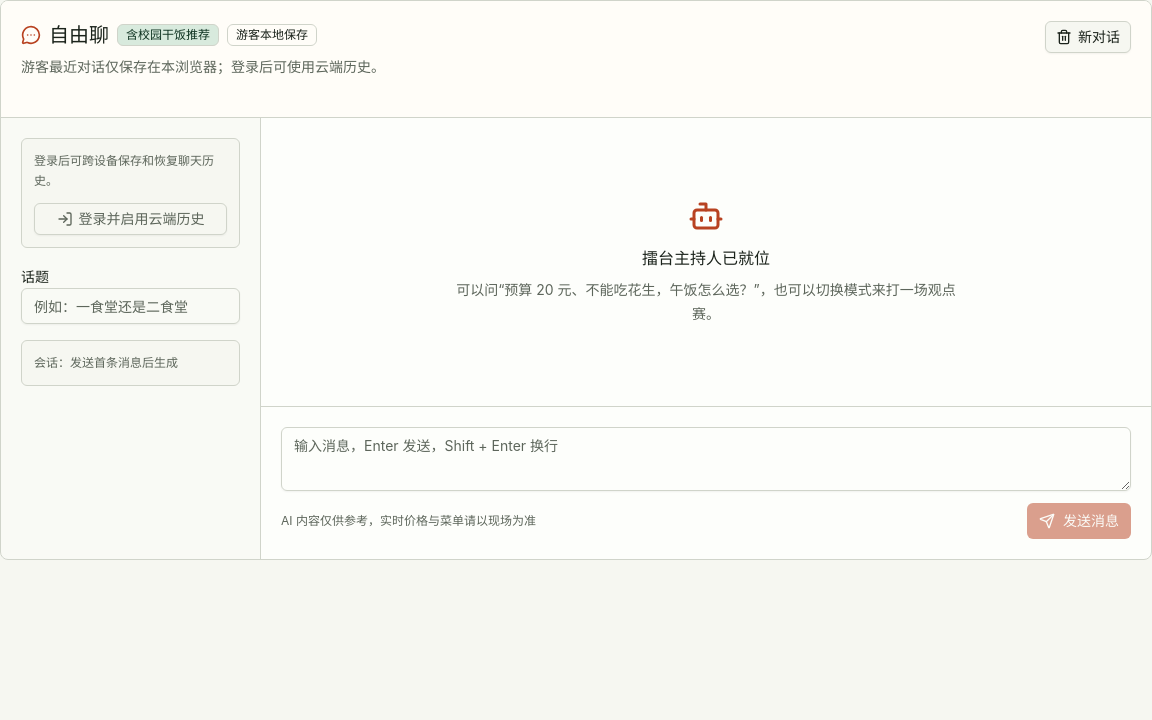
chat panel › renders deltas and saves only after the full response completes
The image size is (1152, 720).
In the text box named "聊天消息": coordinates (706, 459) [281,427,1131,491], type "推荐一道菜"
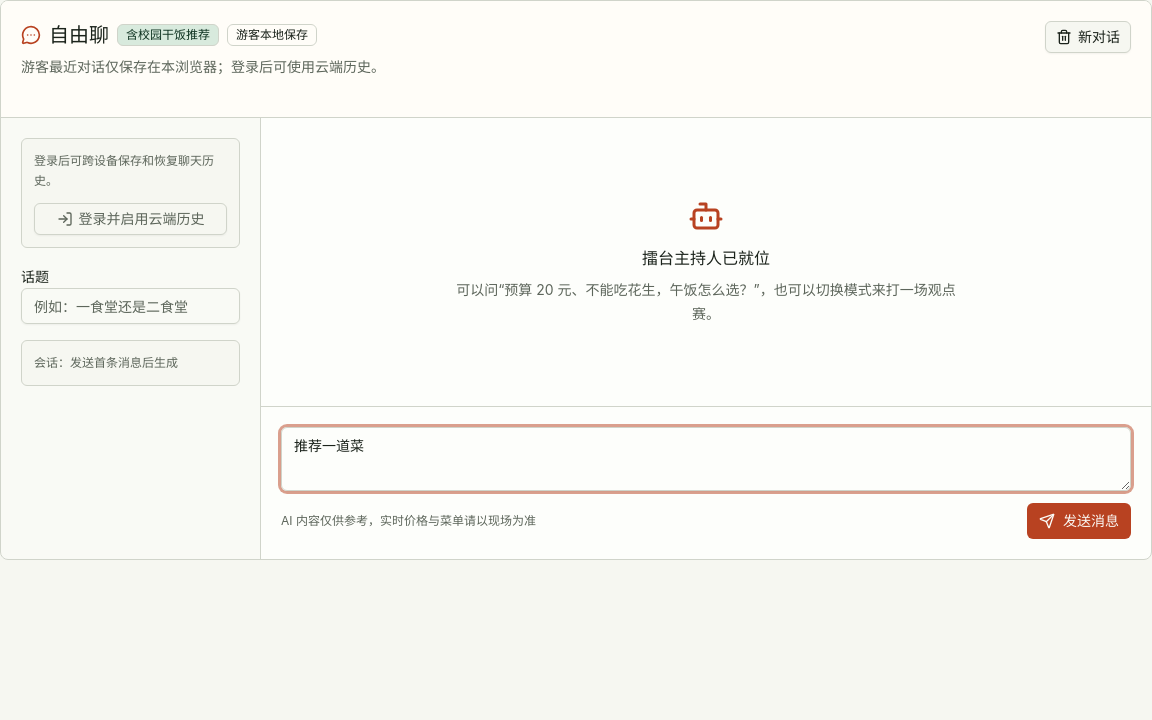
Click the button "发送消息": coordinates (1079, 521) [1027,503,1131,539]
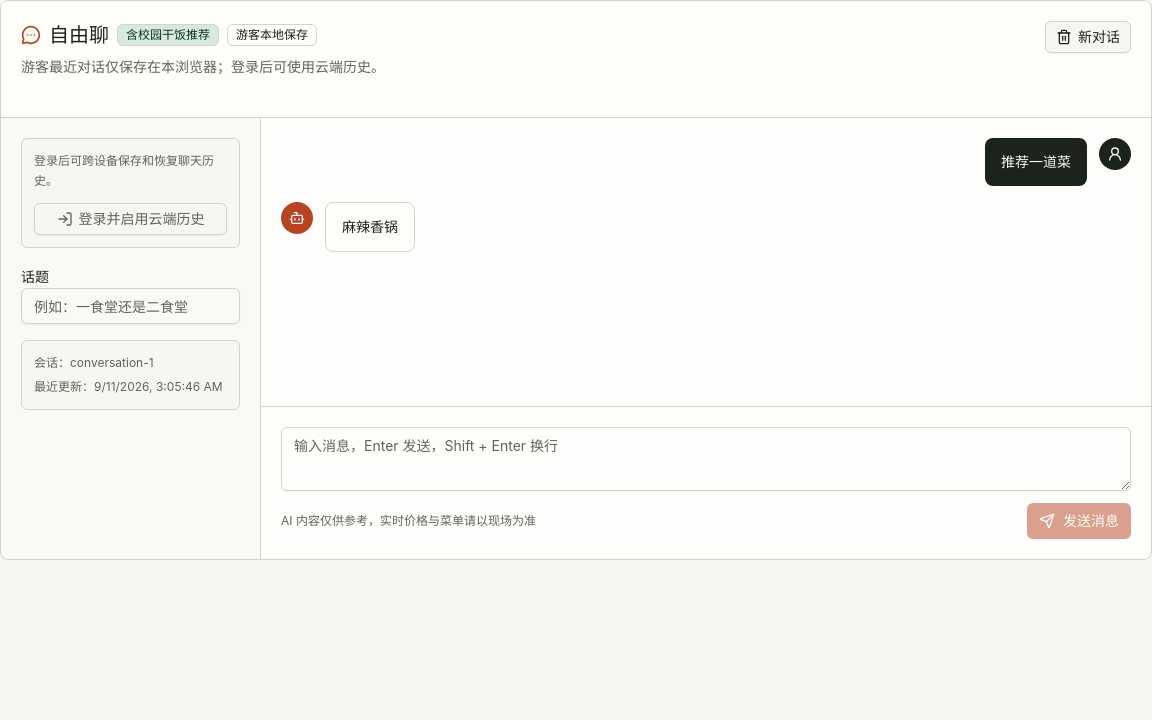
Result: the text "麻辣香锅" is shown at [342,215,398,239]
